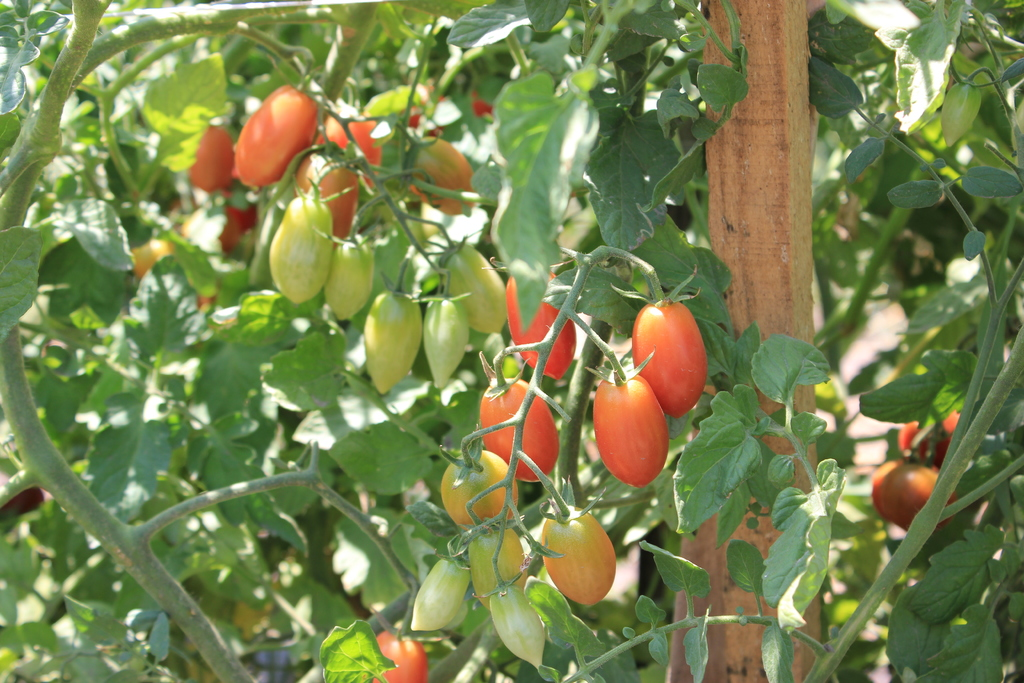Tomato: (606, 265, 702, 420), (262, 187, 347, 305), (597, 367, 668, 490), (476, 364, 553, 473), (236, 83, 314, 190), (544, 499, 612, 615), (437, 243, 510, 348), (447, 444, 520, 535), (504, 268, 574, 358), (361, 289, 419, 388), (318, 228, 377, 320), (422, 297, 476, 385)
